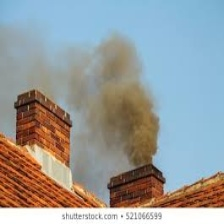smoke: (83, 55, 161, 166)
